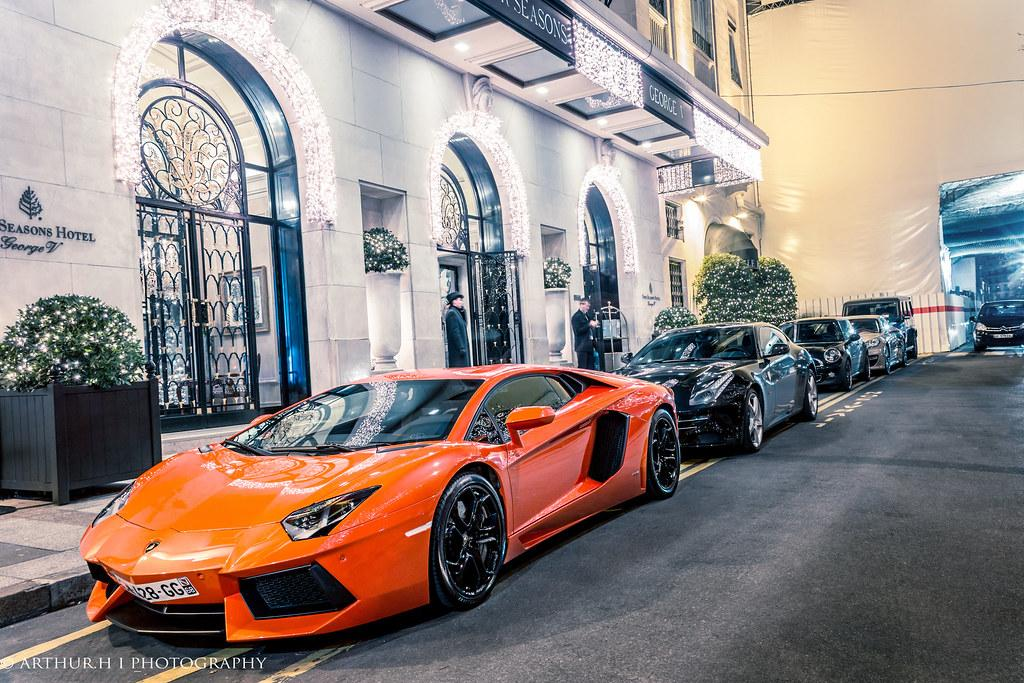car: (80, 363, 682, 647), (613, 322, 819, 454), (776, 316, 870, 392), (840, 315, 906, 375), (973, 300, 1024, 352)
